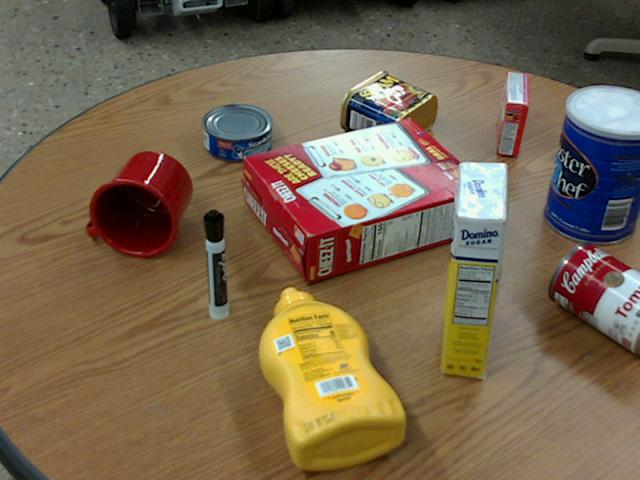cracker_box: (242, 118, 484, 283)
gelatin_box: (496, 72, 527, 155)
large_marker: (203, 208, 226, 319)
master_chef_can: (544, 86, 639, 244)
mug: (86, 150, 190, 256)
mustard_bottle: (258, 287, 405, 468)
potted_meat_can: (340, 70, 436, 147)
sugar_box: (441, 160, 507, 377)
tomato_soup_can: (549, 240, 639, 352)
tuna_fish_can: (202, 102, 271, 159)
